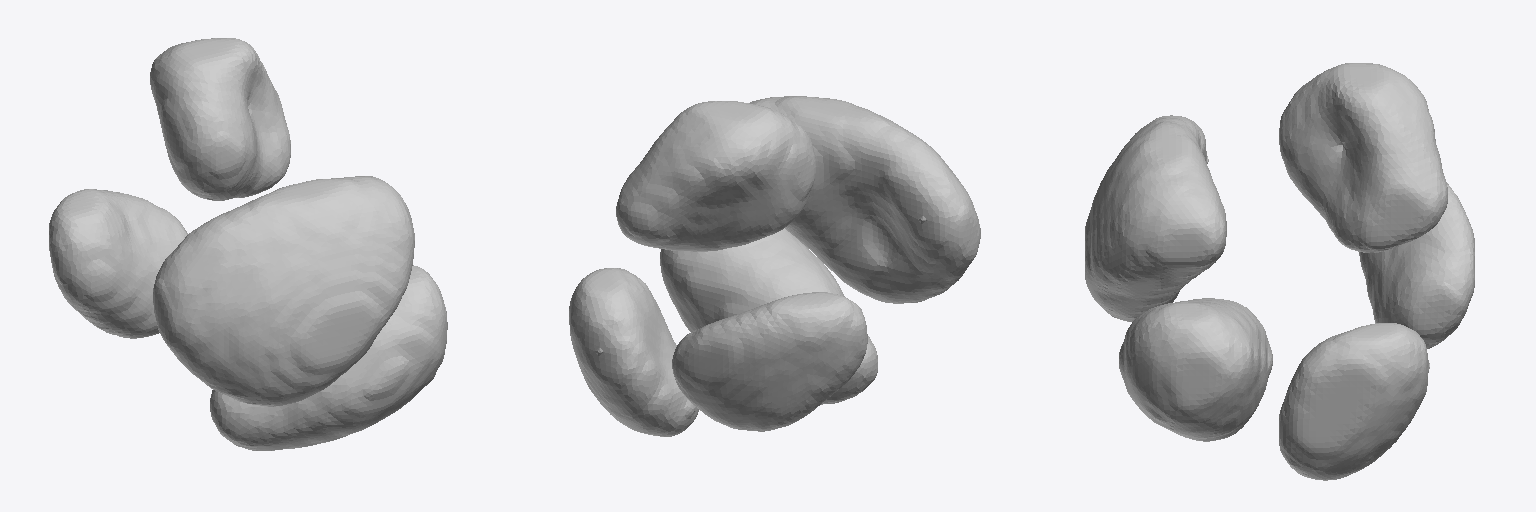
File: iso-crop-mosaic_2.obj
The picture shows the model from 3 angles: view 1: azimuth 30°, elevation 25°; view 2: azimuth 150°, elevation 25°; view 3: azimuth 270°, elevation 25°; orthographic projection.
Visible parts, largest first — view 1: 1, 3, 2, 4; view 2: 1, 3, 4, 5, 2; view 3: 3, 1, 5, 2, 4.
Boxes of the visible parts, <box> form: 1: <box>153,176,414,406</box>; 3: <box>150,38,290,200</box>; 2: <box>210,265,447,450</box>; 4: <box>49,189,187,338</box>; 1: <box>750,96,980,303</box>; 3: <box>616,101,816,251</box>; 4: <box>672,292,867,431</box>; 5: <box>569,268,698,436</box>; 2: <box>660,228,877,404</box>; 3: <box>1279,63,1447,252</box>; 1: <box>1085,115,1226,321</box>; 5: <box>1279,323,1429,480</box>; 2: <box>1119,298,1272,441</box>; 4: <box>1359,183,1474,348</box>.
Size of the model in its own units: 51.62 by 58.47 by 58.14.